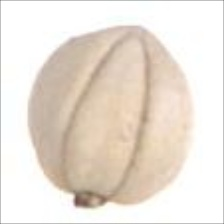L5: (57, 34, 152, 192), (58, 187, 121, 211)
L6: (25, 23, 193, 211)
